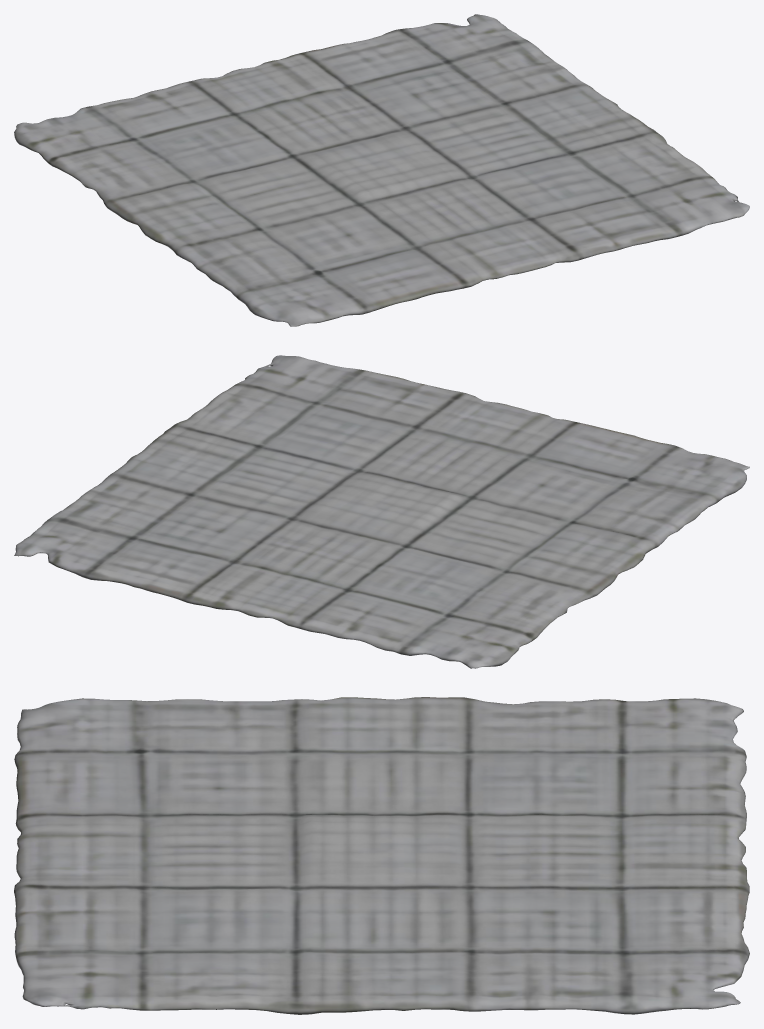
Rendered from a7ff4b3266ae_Shanghai_floor__Chi.obj.
3 views of the same model, one above another, from view 1: azimuth 30°, elevation 25°; view 2: azimuth 150°, elevation 25°; view 3: azimuth 270°, elevation 25° (orthographic). The views are drawn at different scales.
Visible parts, largest first — view 1: mesh; view 2: mesh; view 3: mesh.
Part boxes in pixels (box(x1,y1,x2,y2)): mesh: box(14, 14, 749, 326); mesh: box(14, 355, 749, 668); mesh: box(14, 697, 749, 1014).
Size of the model in its own units: 0.9958 by 0.0296 by 0.9885.
1 material, 1 textured.
